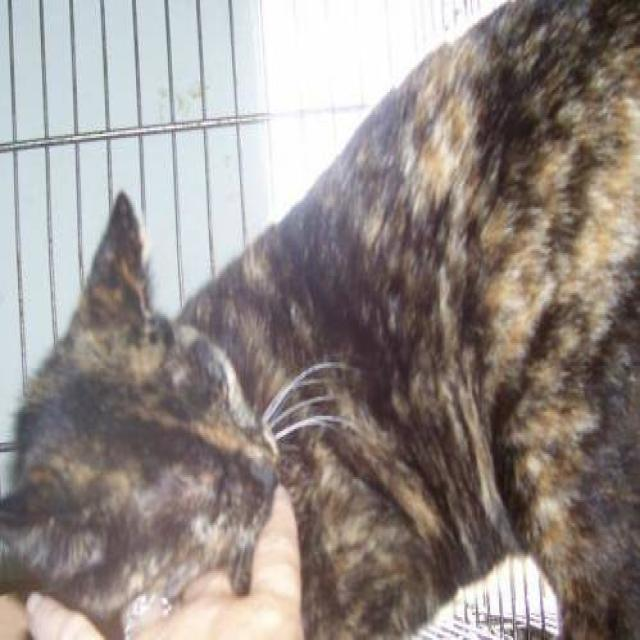cat: (171, 0, 638, 638), (0, 188, 280, 638)
